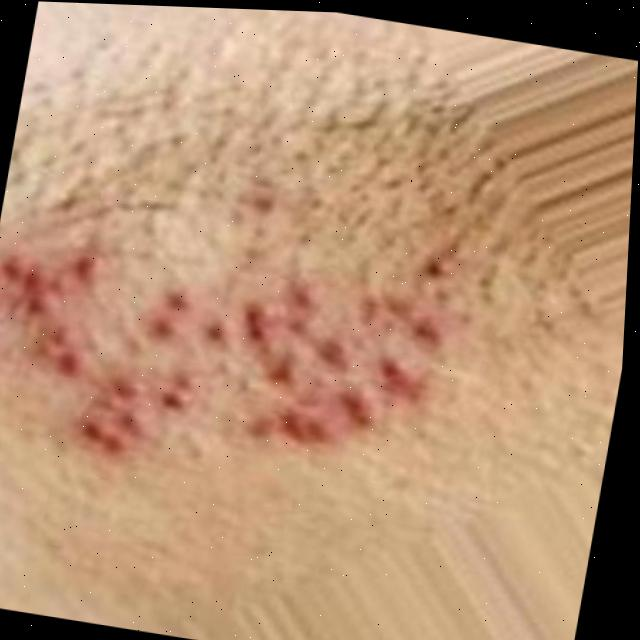Shingles: (0, 202, 446, 492)
